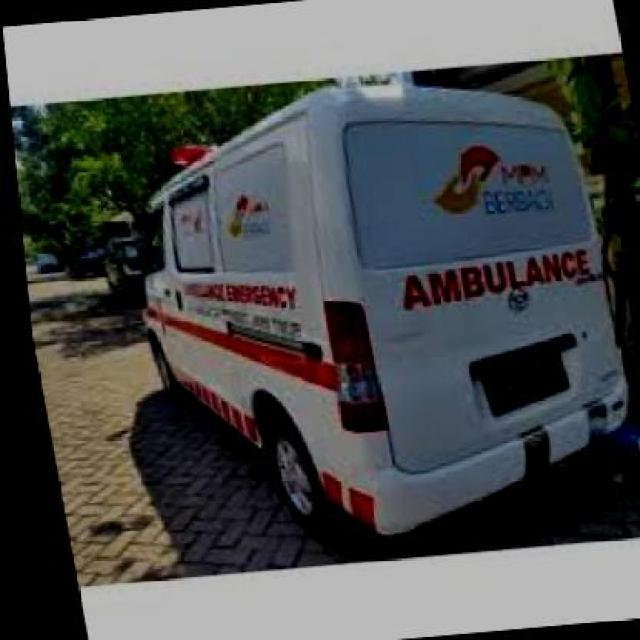emergency-vehicle: (95, 64, 640, 544)
